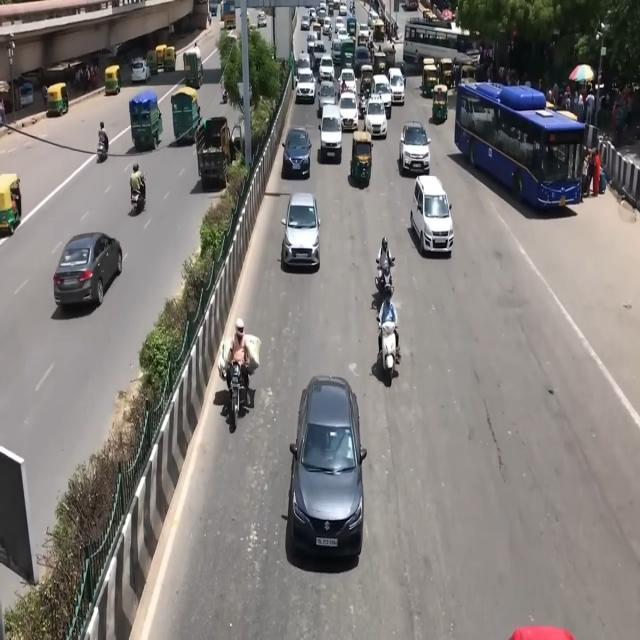auto: (0, 173, 21, 236), (350, 131, 373, 188), (46, 82, 69, 118), (432, 83, 449, 123), (358, 64, 374, 98), (164, 40, 178, 76), (105, 65, 121, 95), (155, 44, 167, 72), (146, 49, 158, 76), (373, 19, 385, 42)
bike-auto: (228, 318, 252, 396), (376, 296, 400, 372), (376, 237, 394, 290), (130, 164, 144, 208), (97, 122, 108, 160), (368, 39, 375, 65)
